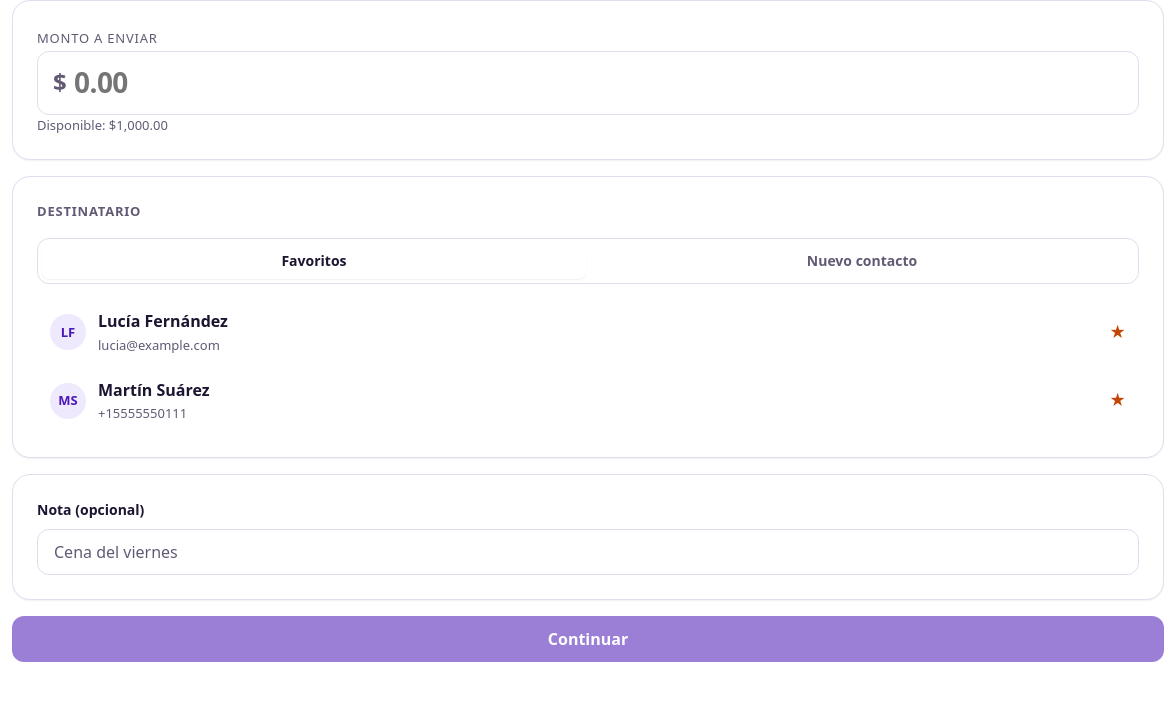
it: ComposeStep › enables continue once a valid amount and recipient are chosen
Type "25.50" into the field labelled "Monto a enviar". click: (588, 83)
box: [37,51,1139,115]
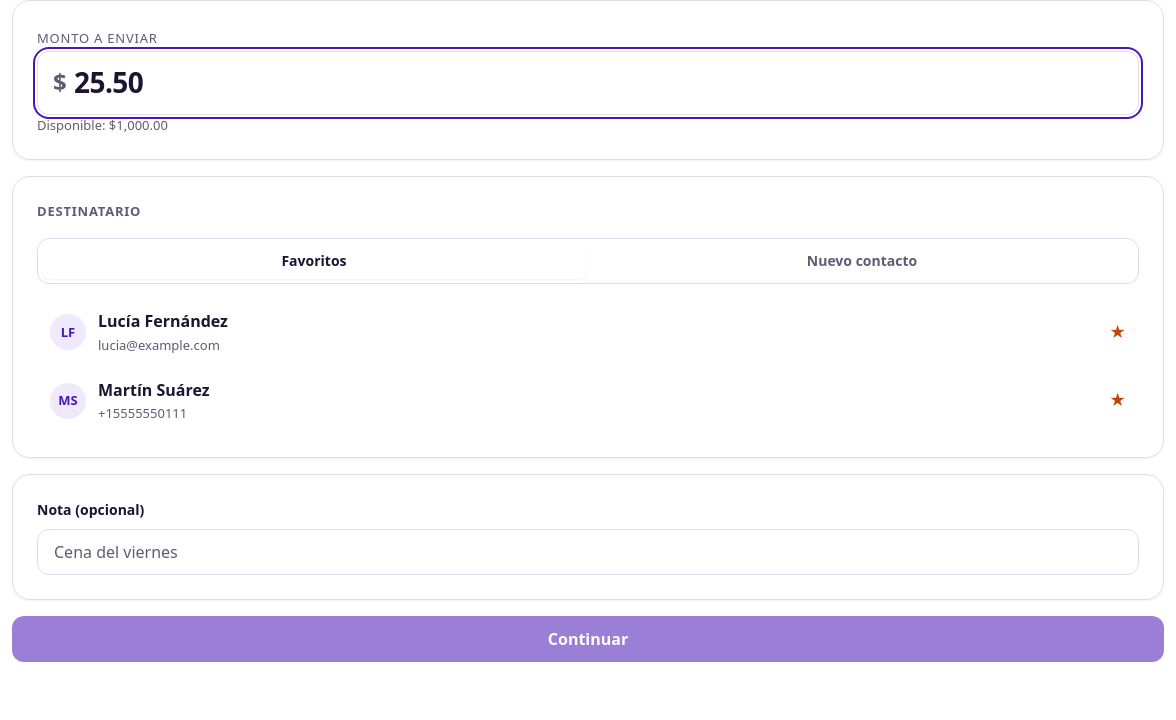
Expected: the button with test id "continue" is disabled, [12,616,1164,662]
Click the button "LF Lucía Fernández lucia@example.com ★". click: (68, 332)
box: [37,300,1139,365]
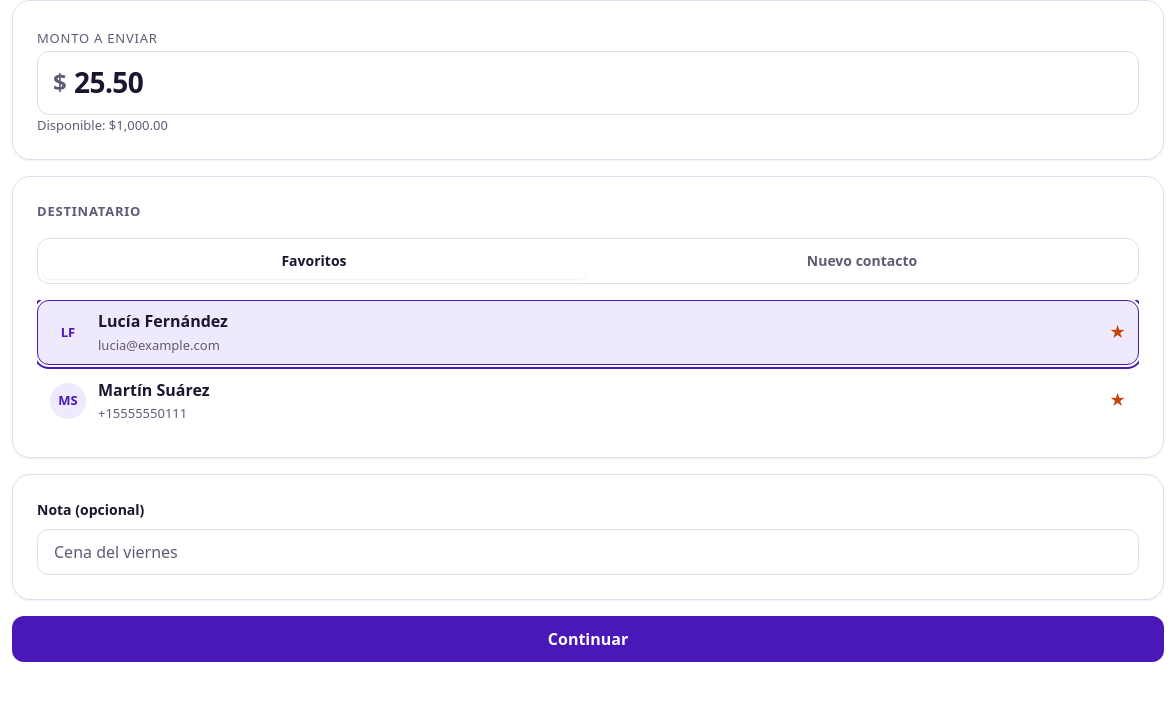
Expected: the button with test id "continue" is enabled, [12,616,1164,662]
